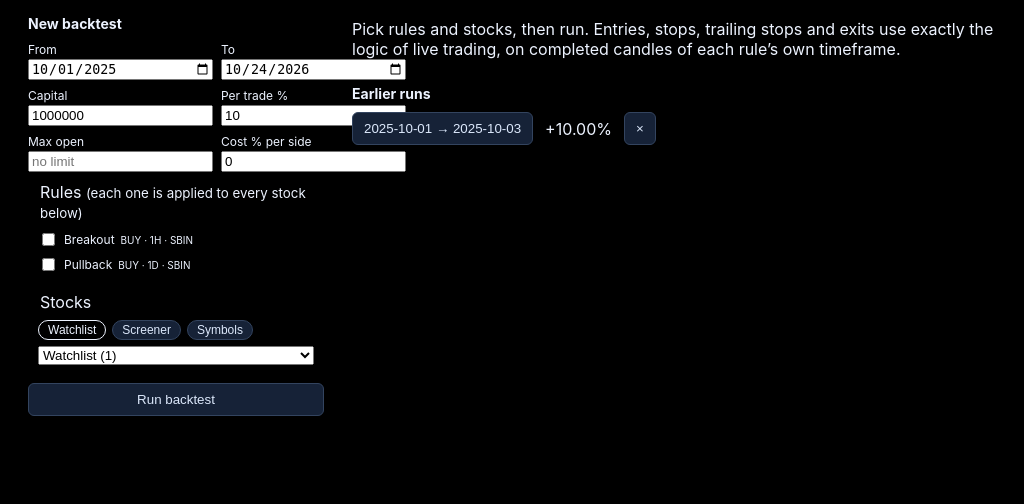
Test case: BacktestView › shows the server’s reason when it refuses the request
This screenshot has width=1024, height=504.
Click the checkbox labelled "Breakout BUY · 1H · SBIN": coordinates (48, 240) [42,233,55,246]
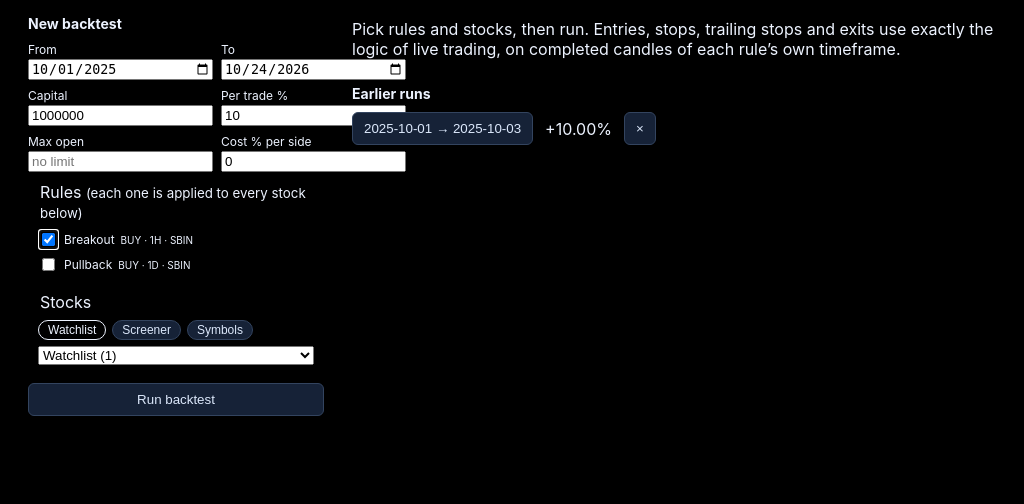
Click the button "Run backtest": coordinates (176, 400) [28,383,324,416]
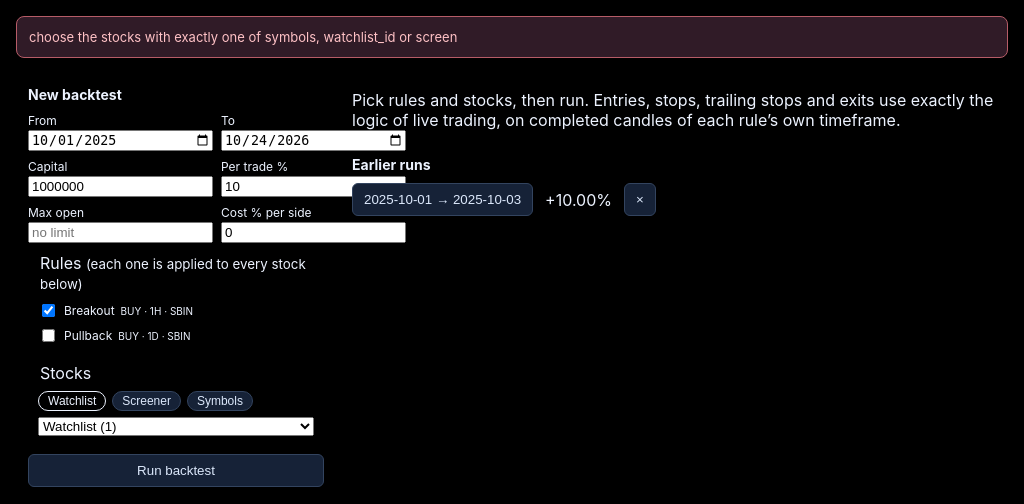
Expected: the message shows "exactly one of", [29,29,457,45]
